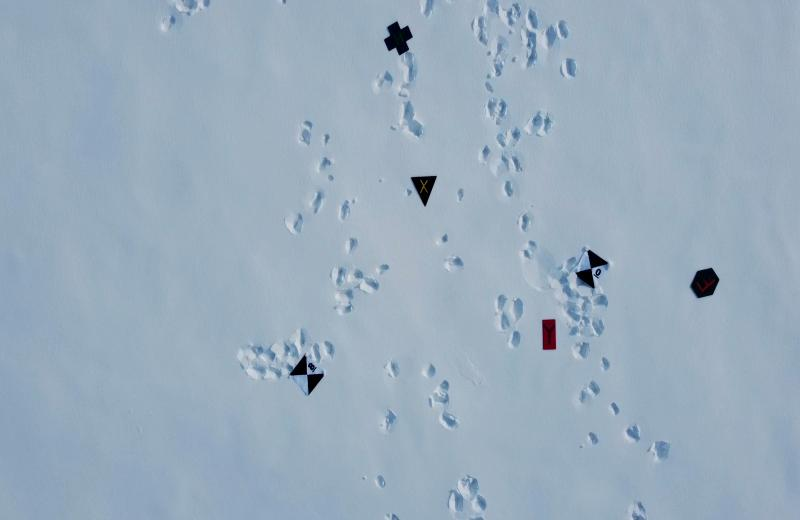Cross: (383, 14, 419, 62)
Hexagon: (685, 260, 723, 305)
Rectangle: (521, 313, 564, 360)
Triangle: (403, 170, 444, 212)
